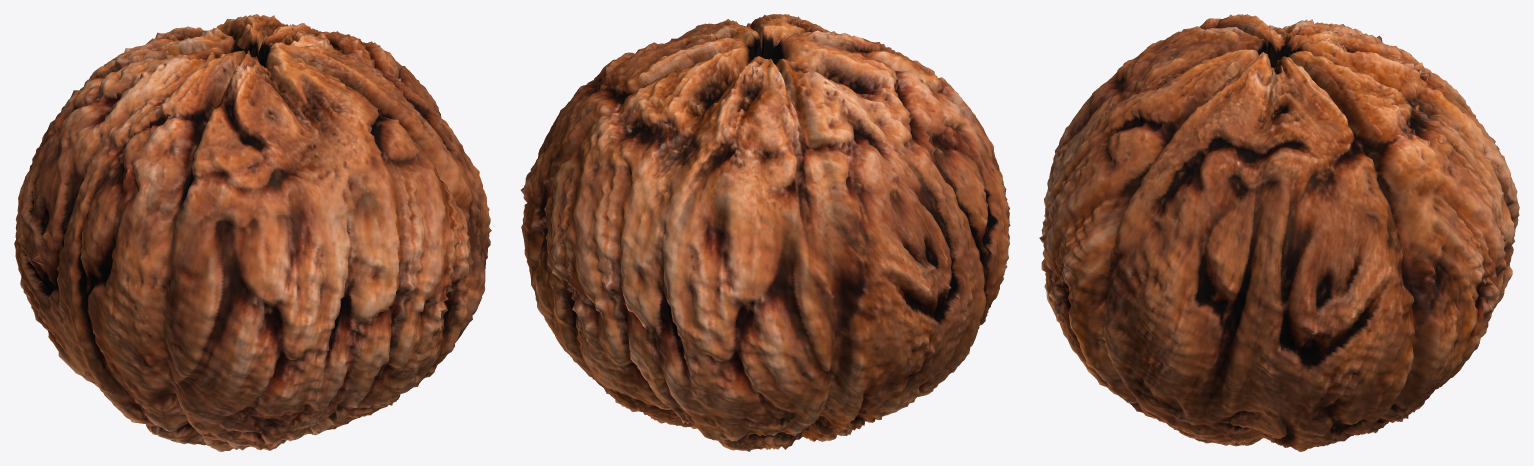
The model's file is 4-mukhi-nepal.glb.
3 renders of one model, left to right at view 1: azimuth 30°, elevation 25°; view 2: azimuth 150°, elevation 25°; view 3: azimuth 270°, elevation 25°, orthographic.
Visible parts, largest first — view 1: seed; view 2: seed; view 3: seed.
Boxes of the visible parts, x1=… form: seed: x1=14, y1=14, x2=491, y2=451; seed: x1=520, y1=14, x2=1010, y2=451; seed: x1=1039, y1=14, x2=1519, y2=451.
Bounding box in the file's own units: 0.0192 × 0.0168 × 0.019.
Materials: 1 (1 with a texture image).
